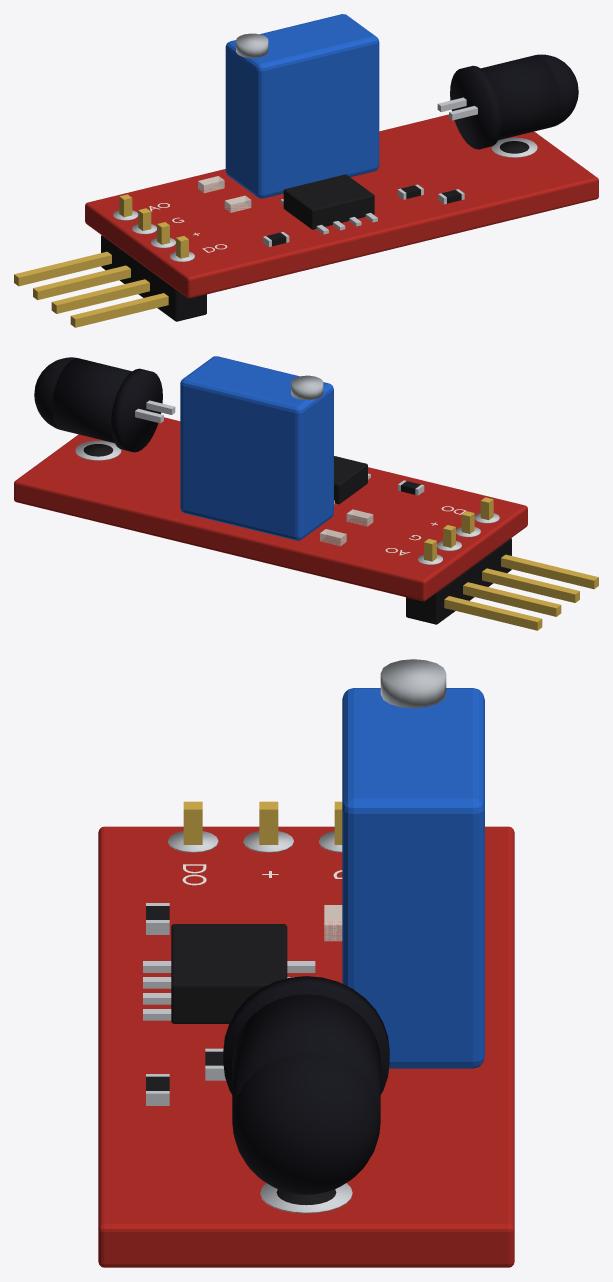
File: flame-sensor.glb
3 views of the same model, one above another, from view 1: azimuth 30°, elevation 25°; view 2: azimuth 150°, elevation 25°; view 3: azimuth 270°, elevation 25° (orthographic). The views are drawn at different scales.
Visible parts, largest first — view 1: pcb.013, trimpot.002, led_body, lm393.002, led_rim, header.013, pin_h.043, pin_h.044, pin_h.041, pin_h.042, led_dome, trim_screw.002 (+1 smaller); view 2: pcb.013, trimpot.002, led_body, led_rim, header.013, pin_h.042, pin_h.041, pin_h.044, pin_h.043, lm393.002, led_dome, trim_screw.002 (+1 smaller); view 3: pcb.013, trimpot.002, led_dome, lm393.002, led_body, led_rim, trim_screw.002, hole_ring.024, pin_v.043, pin_v.044.
Boxes of the visible parts, box(x1,y1,x2,y2) form: pcb.013: box(85, 114, 598, 298); trimpot.002: box(225, 14, 379, 198); led_body: box(481, 55, 560, 139); lm393.002: box(283, 174, 374, 229); led_rim: box(450, 65, 501, 149); header.013: box(101, 235, 206, 321); pin_h.043: box(51, 279, 149, 313); pin_h.044: box(70, 293, 168, 327); pin_h.041: box(14, 251, 111, 286); pin_h.042: box(33, 265, 130, 300); led_dome: box(535, 54, 578, 126); trim_screw.002: box(236, 33, 268, 57); pcb.013: box(14, 417, 527, 601); trimpot.002: box(180, 356, 333, 540); led_body: box(52, 358, 131, 442); led_rim: box(111, 368, 162, 452); header.013: box(406, 538, 511, 624); pin_h.042: box(463, 582, 561, 616); pin_h.041: box(444, 596, 542, 630); pin_h.044: box(501, 554, 598, 589); pin_h.043: box(482, 568, 579, 602); lm393.002: box(334, 456, 367, 504); led_dome: box(34, 357, 76, 429); trim_screw.002: box(291, 375, 323, 400); pcb.013: box(98, 826, 514, 1267); trimpot.002: box(342, 688, 484, 1068); led_dome: box(232, 1054, 380, 1194); lm393.002: box(171, 924, 287, 1023); led_body: box(232, 994, 380, 1133); led_rim: box(223, 976, 389, 1094); trim_screw.002: box(380, 659, 446, 708); hole_ring.024: box(260, 1183, 352, 1213); pin_v.043: box(259, 801, 278, 844); pin_v.044: box(183, 801, 202, 844).
Size of the model in its own units: 0.0411 by 0.0149 by 0.014.
